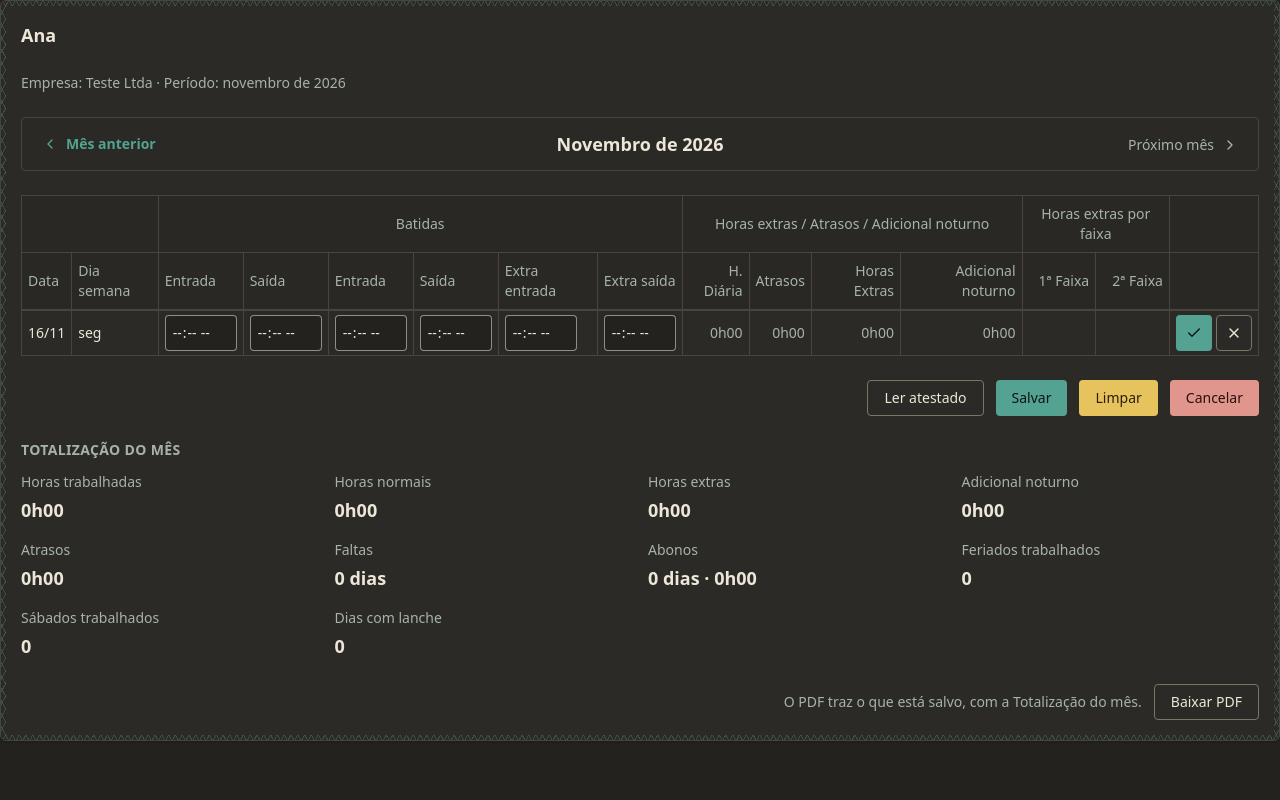
CartaoDePontoContainer › erro ao iniciar o cartão aparece na barra da tabela
This screenshot has width=1280, height=800.
Click the button "Salvar". click: (1032, 398)
box: [996, 380, 1068, 416]
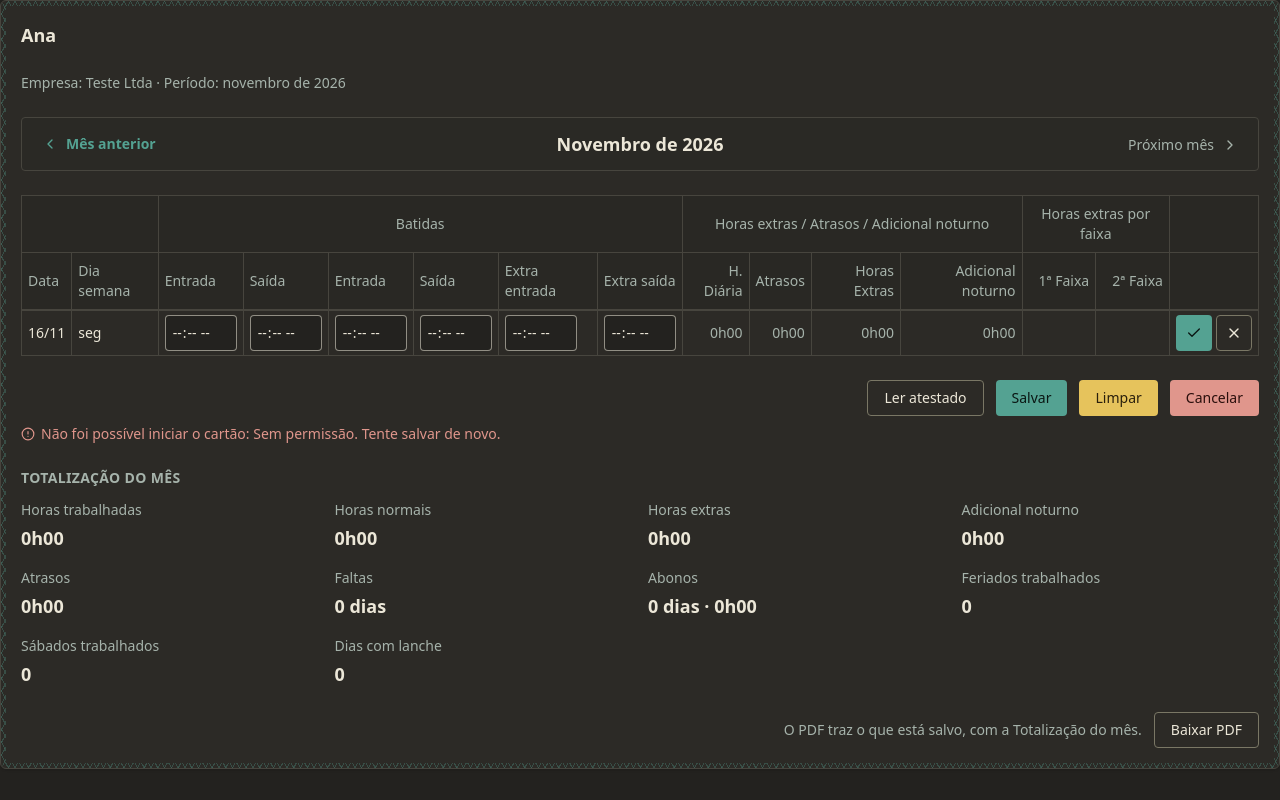
Result: the message reads "Não foi possível iniciar o cartão: Sem permissão. Tente salvar de novo." at [41, 424, 500, 443]
